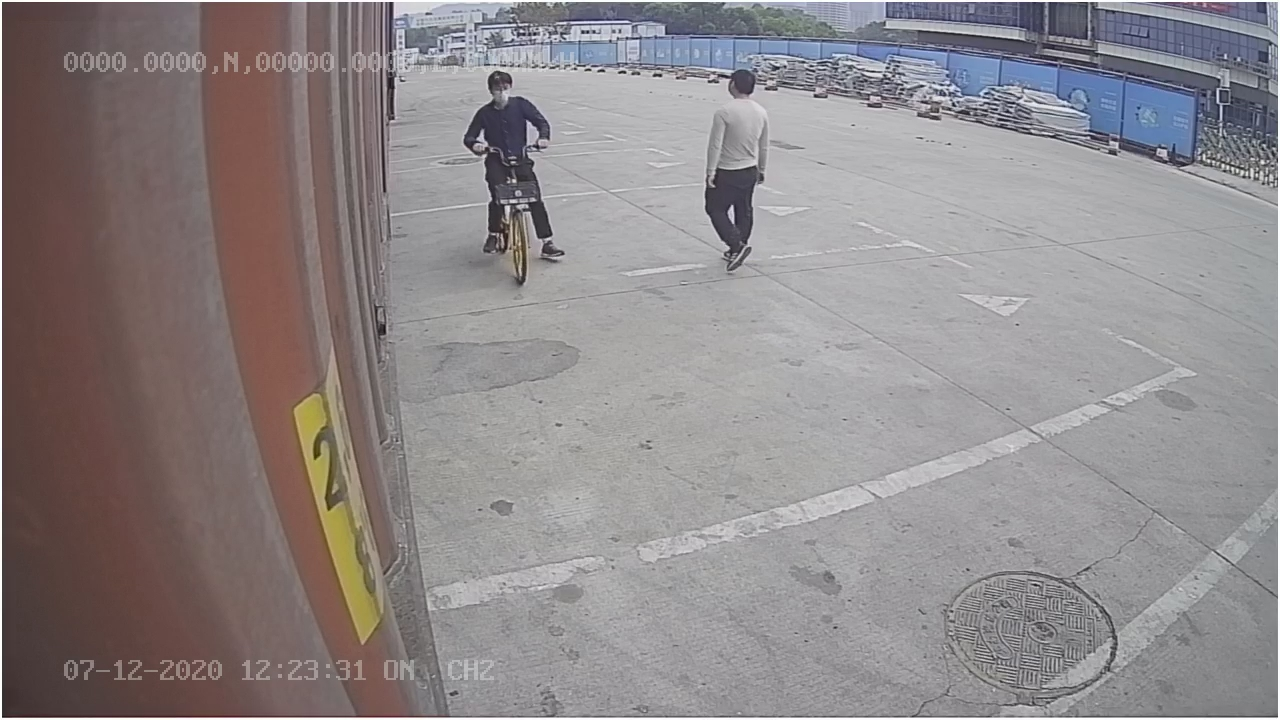person: (698, 65, 773, 276)
